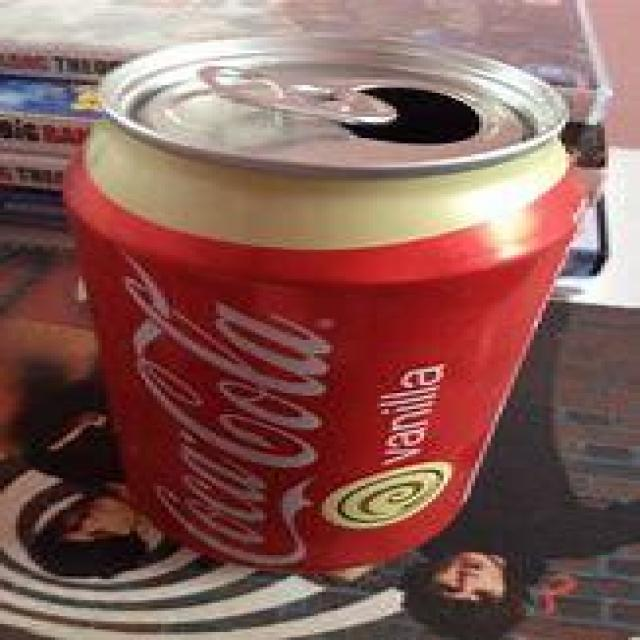can: (59, 34, 591, 576)
pop tab: (197, 61, 400, 125)
